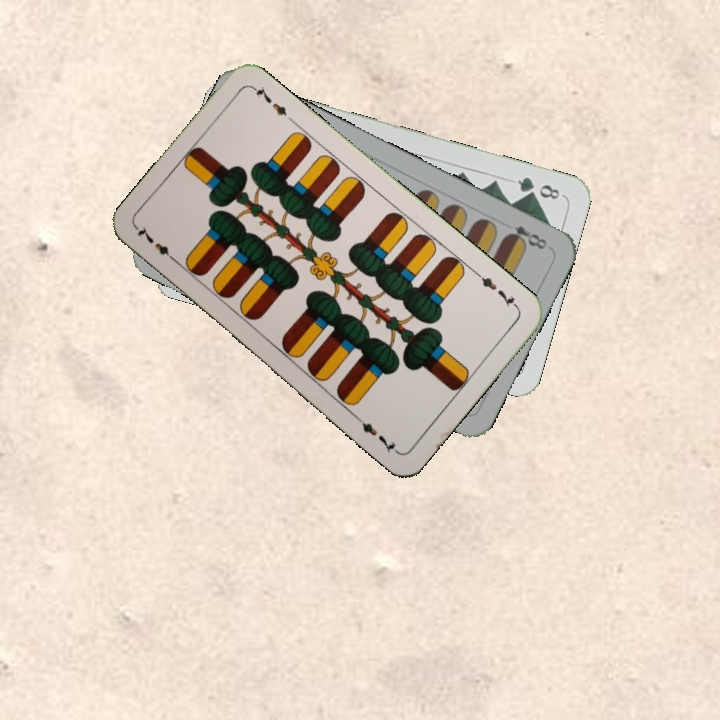E7: (133, 222, 182, 267), (472, 268, 522, 311)
E8: (501, 221, 553, 252)
G8: (513, 172, 563, 202)
